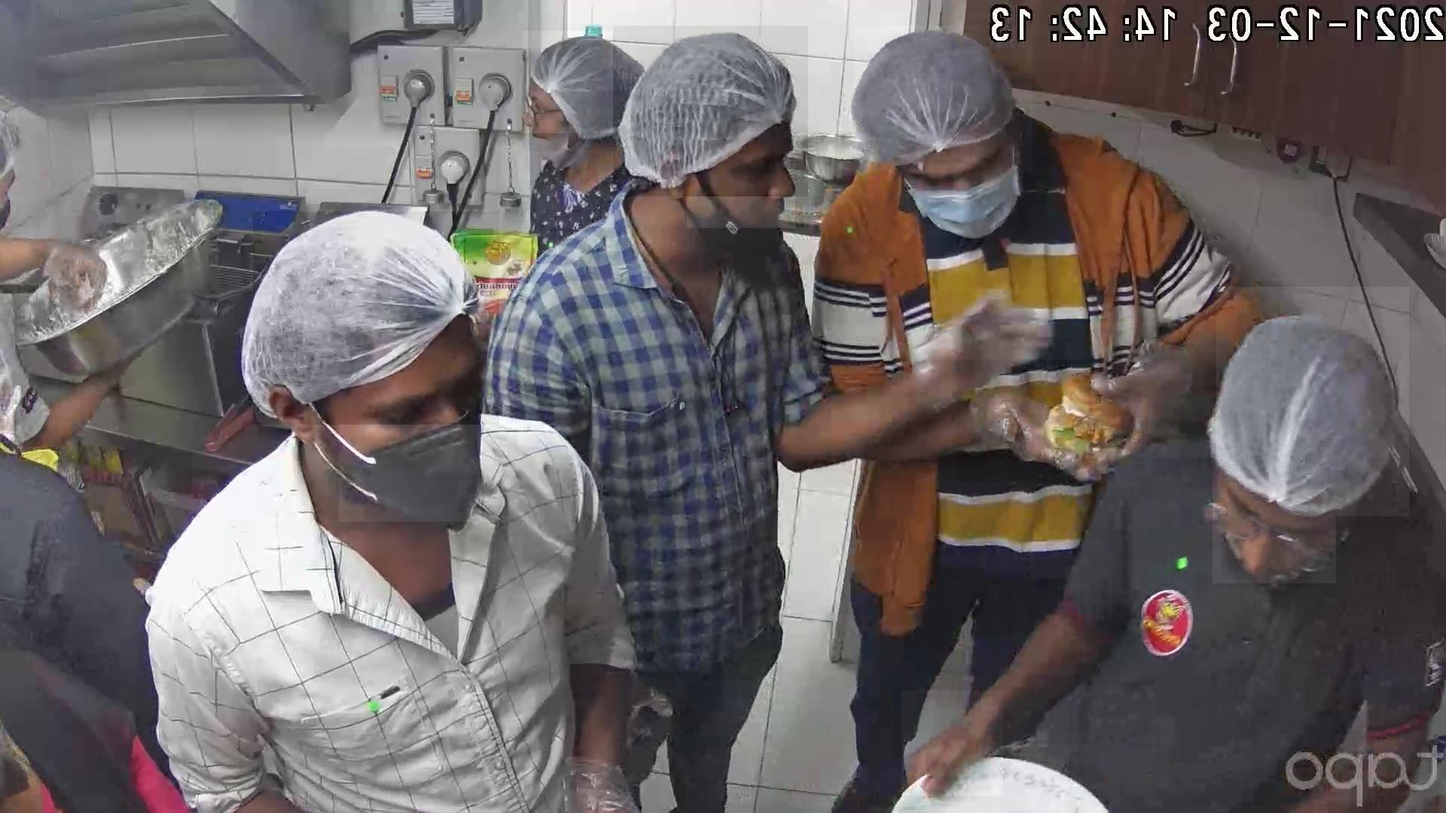apron: (912, 287, 1046, 421), (1091, 322, 1215, 458), (957, 360, 1093, 483), (21, 227, 118, 321), (556, 729, 654, 813)
gloves: (253, 212, 500, 425), (1216, 287, 1409, 516), (613, 26, 808, 197), (854, 26, 1033, 174), (523, 31, 653, 133), (0, 86, 19, 193)
mask: (339, 409, 482, 522), (901, 145, 1018, 237)
no_apron: (902, 691, 1004, 796)
no_hairnet: (1213, 467, 1336, 583), (687, 135, 795, 228), (523, 88, 566, 151)
